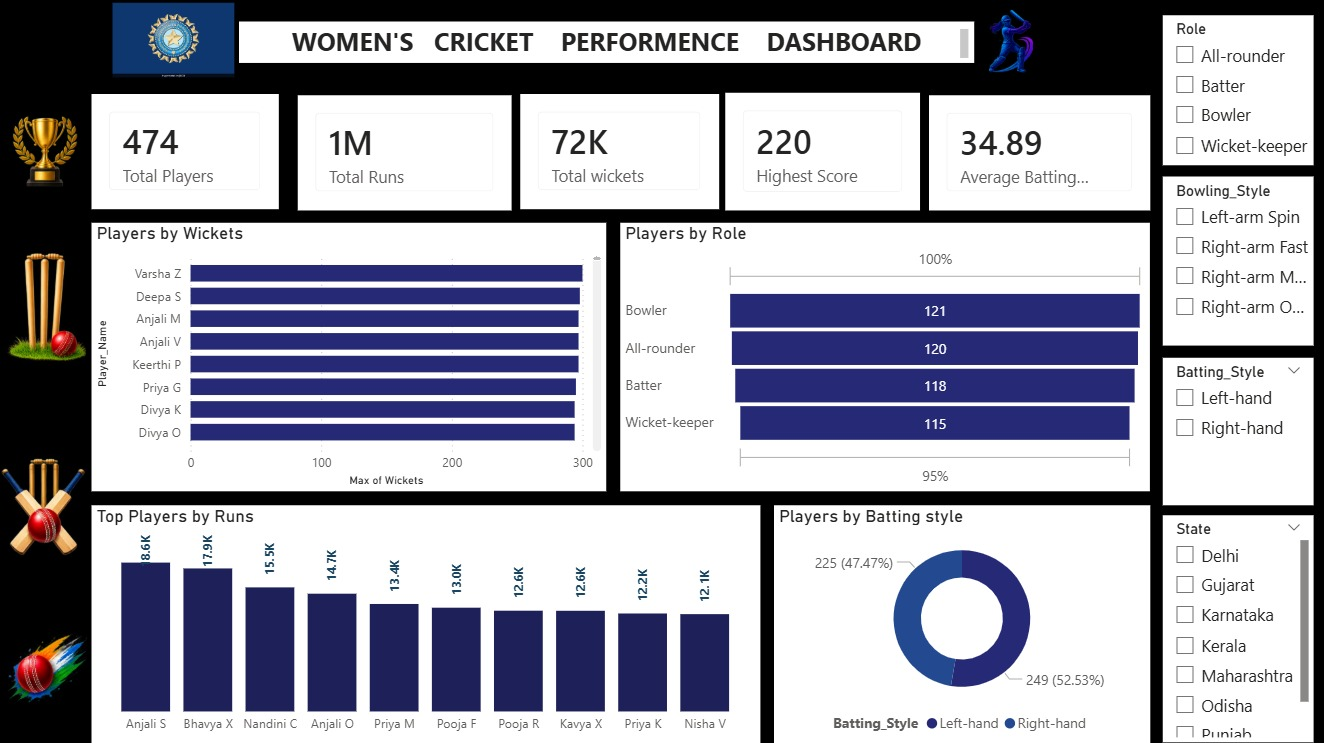

The dashboard page shown, as its layout file describes it:
{"tool":"powerbi","page":{"name":"Page 1","canvas":[1280,720],"ordinal":0},"visuals":[{"type":"clusteredBarChart","title":"Players by Wickets","fields":{"Category":["player dataset2.Player_Name"],"Y":["Max(player dataset2.Wickets)"]},"box":[89.3,216,499.5,259.4],"z":0},{"type":"donutChart","title":"Players by Batting style","fields":{"Category":["player dataset2.Batting_Style"],"Y":["CountNonNull(player dataset2.Player_ID)"]},"box":[748,488.6,363.1,229.2],"z":1000},{"type":"clusteredColumnChart","title":"Top Players by Runs","fields":{"Category":["player dataset2.Player_Name"],"Y":["Sum(player dataset2.Runs)"]},"box":[89.3,488.6,645.4,229.2],"z":2000},{"type":"cardVisual","fields":{"Data":["Sum(player dataset2.Runs)"]},"box":[288.3,92.9,206.3,111],"z":3000},{"type":"cardVisual","fields":{"Data":["Sum(player dataset2.Wickets)"]},"box":[503.1,91.7,191.8,111],"z":4000},{"type":"cardVisual","fields":{"Data":["Avg(player dataset2.Batting_Average)"]},"box":[897.6,92.9,213.5,111],"z":5000},{"type":"slicer","fields":{"Values":["player dataset2.Role"]},"box":[1123.2,15.7,146,144.8],"z":6000},{"type":"slicer","fields":{"Values":["player dataset2.State"]},"box":[1123.2,498.3,146,219.6],"z":7000},{"type":"slicer","fields":{"Values":["player dataset2.Bowling_Style"]},"box":[1123.2,171.3,146,162.9],"z":8000},{"type":"slicer","fields":{"Values":["player dataset2.Batting_Style"]},"box":[1123.2,346.2,146,142.4],"z":9000},{"type":"cardVisual","fields":{"Data":["CountNonNull(player dataset2.Player_Name)"]},"box":[89.3,91.7,181,111],"z":10000},{"type":"textbox","box":[212.3,21.7,667.2,43.4],"z":11000},{"type":"image","box":[0,7.2,203.9,72.4],"z":12000},{"type":"funnel","title":"Players by Role","fields":{"Category":["player dataset2.Role"],"Y":["CountNonNull(player dataset2.Player_Name)"]},"box":[599.6,216,511.5,259.4],"z":13000},{"type":"cardVisual","fields":{"Data":["Max(player dataset2.Highest_Score)"]},"box":[700.9,90.5,188.2,113.4],"z":14000},{"type":"image","box":[855.4,15.7,170.1,72.4],"z":15000},{"type":"image","box":[8.4,61.5,71.2,170.1],"z":16000},{"type":"image","box":[0,231.6,89.3,127.9],"z":17000},{"type":"image","box":[4.8,574.3,79.6,146],"z":18000},{"type":"image","box":[0,365.6,84.5,246.1],"z":19000}]}

Visuals, with their boxes in screenshot pixels (x1, y1, x2, y2), scaled from the page's 1280x720 canvas onto the 1324x743 screenshot:
"Players by Wickets" clusteredBarChart: BBox(92, 223, 609, 491)
"Players by Batting style" donutChart: BBox(774, 504, 1149, 741)
"Top Players by Runs" clusteredColumnChart: BBox(92, 504, 760, 741)
cardVisual - Sum(player dataset2.Runs): BBox(298, 96, 512, 210)
cardVisual - Sum(player dataset2.Wickets): BBox(520, 95, 719, 209)
cardVisual - Avg(player dataset2.Batting_Average): BBox(928, 96, 1149, 210)
slicer - player dataset2.Role: BBox(1162, 16, 1313, 166)
slicer - player dataset2.State: BBox(1162, 514, 1313, 741)
slicer - player dataset2.Bowling_Style: BBox(1162, 177, 1313, 345)
slicer - player dataset2.Batting_Style: BBox(1162, 357, 1313, 504)
cardVisual - CountNonNull(player dataset2.Player_Name): BBox(92, 95, 280, 209)
textbox: BBox(220, 22, 910, 67)
image: BBox(0, 7, 211, 82)
"Players by Role" funnel: BBox(620, 223, 1149, 491)
cardVisual - Max(player dataset2.Highest_Score): BBox(725, 93, 920, 210)
image: BBox(885, 16, 1061, 91)
image: BBox(9, 63, 82, 239)
image: BBox(0, 239, 92, 371)
image: BBox(5, 593, 87, 742)
image: BBox(0, 377, 87, 631)
